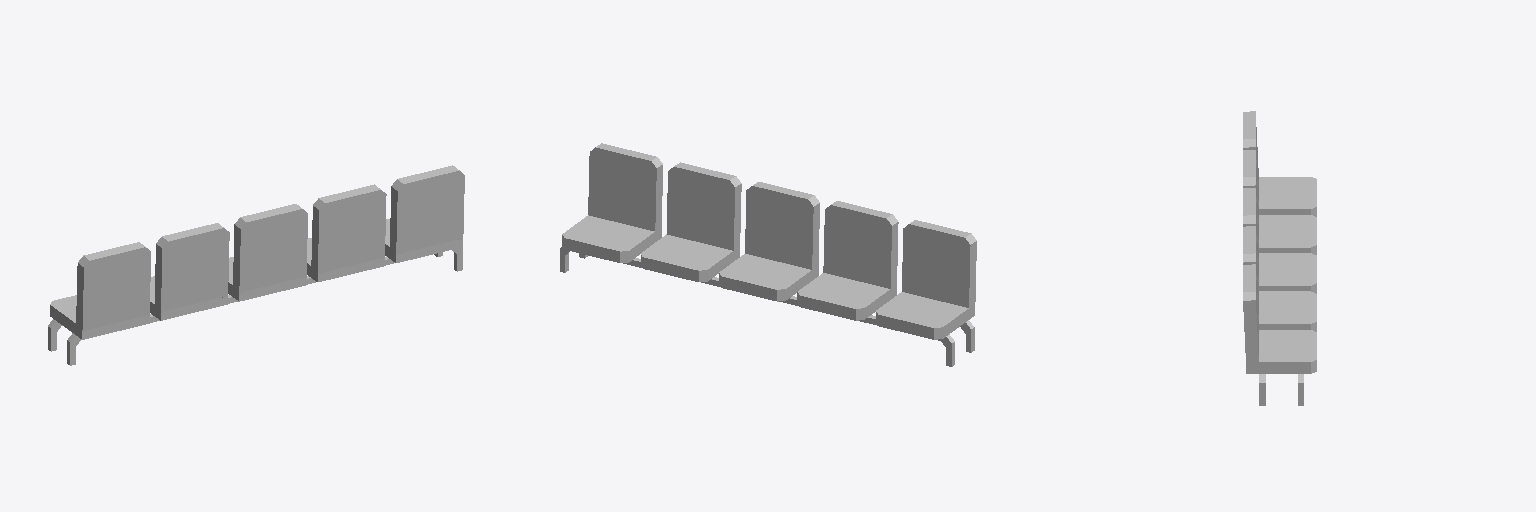
Rendered from chair6.obj.
3 renders of one model, left to right at view 1: azimuth 30°, elevation 25°; view 2: azimuth 150°, elevation 25°; view 3: azimuth 270°, elevation 25°, orthographic.
Parts seen in each view (by area): view 1: Part33, Part9, Part21, Part44, Part55, Part17, Part5, Part51, Part40, Part29, Part22, Part56 (+8 smaller); view 2: Part11, Part23, Part57, Part46, Part35, Part12, Part36, Part47, Part24, Part58, Part38, Part27 (+13 smaller); view 3: Part12, Part36, Part24, Part47, Part58, Part7, Part4.
Boxes of the visible parts, x1=… form: Part33: x1=88, y1=253, x2=145, y2=329; Part9: x1=402, y1=177, x2=458, y2=252; Part21: x1=323, y1=196, x2=380, y2=271; Part44: x1=167, y1=234, x2=223, y2=309; Part55: x1=245, y1=215, x2=302, y2=290; Part17: x1=311, y1=206, x2=324, y2=278; Part5: x1=390, y1=186, x2=402, y2=259; Part51: x1=233, y1=224, x2=246, y2=293; Part40: x1=154, y1=244, x2=167, y2=313; Part29: x1=76, y1=263, x2=89, y2=335; Part22: x1=319, y1=184, x2=380, y2=208; Part56: x1=240, y1=204, x2=302, y2=227; Part11: x1=594, y1=153, x2=650, y2=229; Part23: x1=672, y1=173, x2=729, y2=248; Part57: x1=751, y1=192, x2=807, y2=268; Part46: x1=829, y1=211, x2=885, y2=287; Part35: x1=907, y1=230, x2=964, y2=306; Part12: x1=568, y1=217, x2=648, y2=248; Part36: x1=882, y1=293, x2=962, y2=325; Part47: x1=804, y1=274, x2=883, y2=306; Part24: x1=647, y1=236, x2=727, y2=267; Part58: x1=725, y1=255, x2=805, y2=287; Part38: x1=800, y1=293, x2=857, y2=320; Part27: x1=878, y1=312, x2=936, y2=339; Part12: x1=1259, y1=332, x2=1310, y2=359; Part36: x1=1259, y1=179, x2=1310, y2=206; Part24: x1=1259, y1=294, x2=1310, y2=320; Part47: x1=1259, y1=218, x2=1310, y2=244; Part58: x1=1259, y1=256, x2=1310, y2=282; Part7: x1=1243, y1=300, x2=1258, y2=370; Part4: x1=1253, y1=360, x2=1310, y2=373.
Bounding box in the file's own units: 15.18 × 4.03 × 2.5.